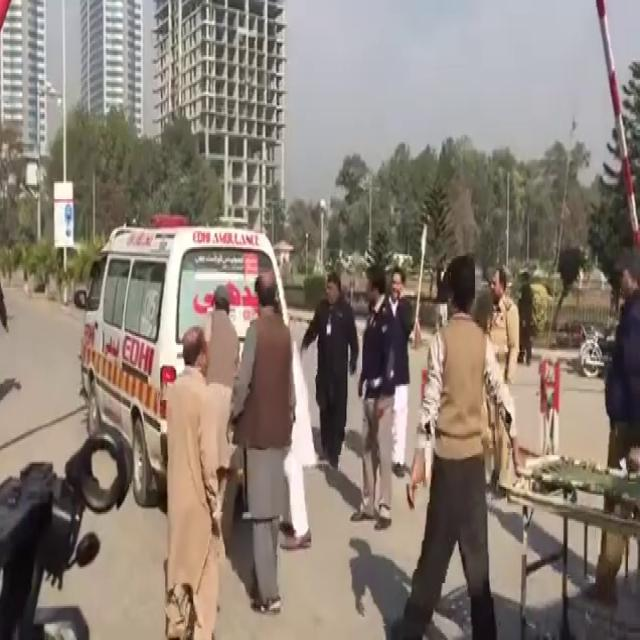ambulance: (75, 218, 307, 454)
